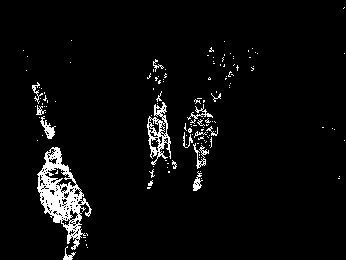person: (34, 147, 94, 260), (182, 96, 219, 192), (147, 100, 178, 190), (31, 82, 58, 140), (145, 56, 167, 100)
